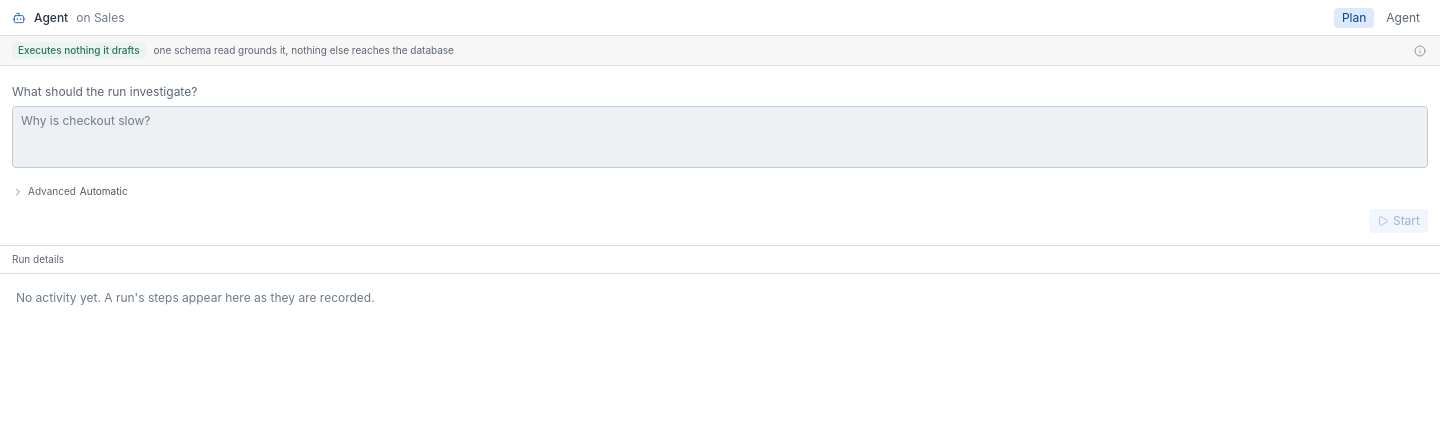
Test: AgentRail › the strip lists the conversation's steps and offers a way out of it
This screenshot has width=1440, height=423.
Step 1. Type "chart those" into the text box with test id "agent-objective" → (720, 137), box [12, 106, 1428, 168]
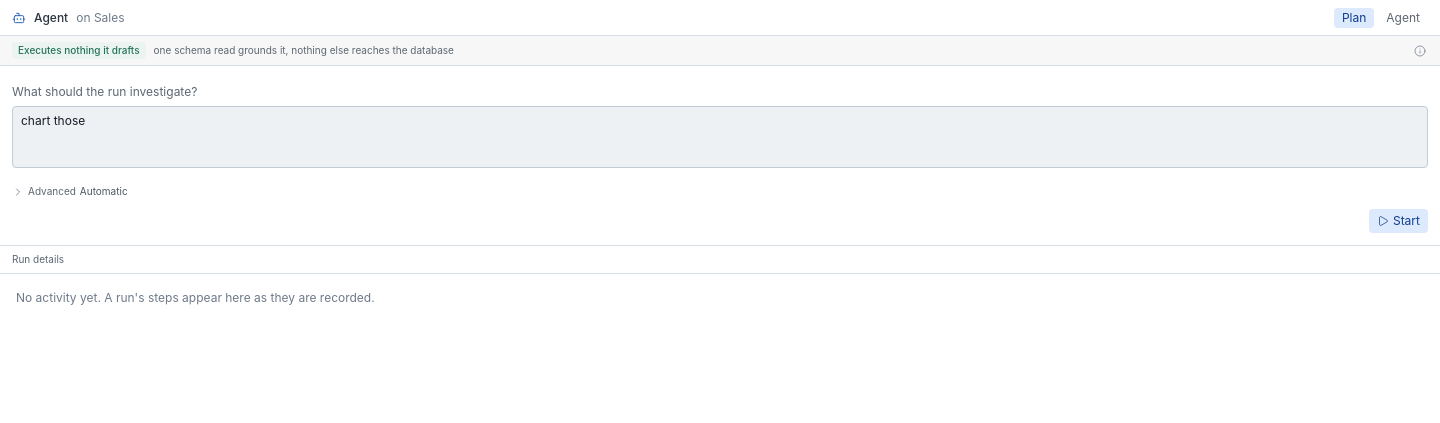
Step 2. Click the button with test id "agent-start" → (1398, 221), box [1369, 209, 1428, 233]
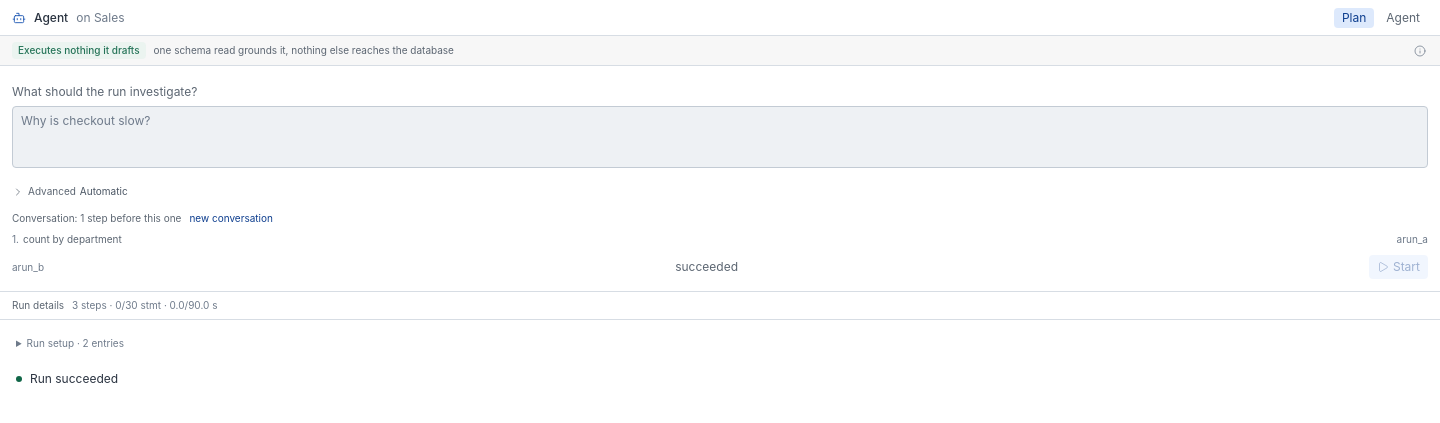
Now the element with test id "agent-thread" is shown, box [12, 209, 1428, 247]
Now the list with test id "agent-thread-steps" shows "count by department", box [23, 233, 122, 245]
Now the list with test id "agent-thread-steps" shows "arun_a", box [1397, 233, 1428, 245]
Step 3. Click the button with test id "agent-thread-new" → (231, 218), box [185, 209, 277, 228]
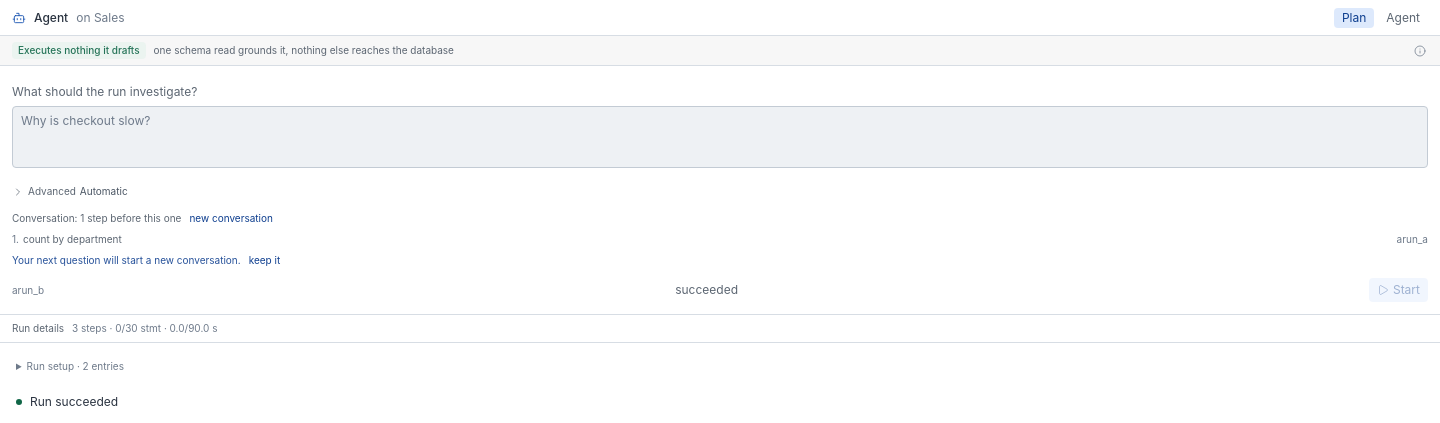
Now the element with test id "agent-thread-fresh-pending" is shown, box [12, 251, 284, 270]
